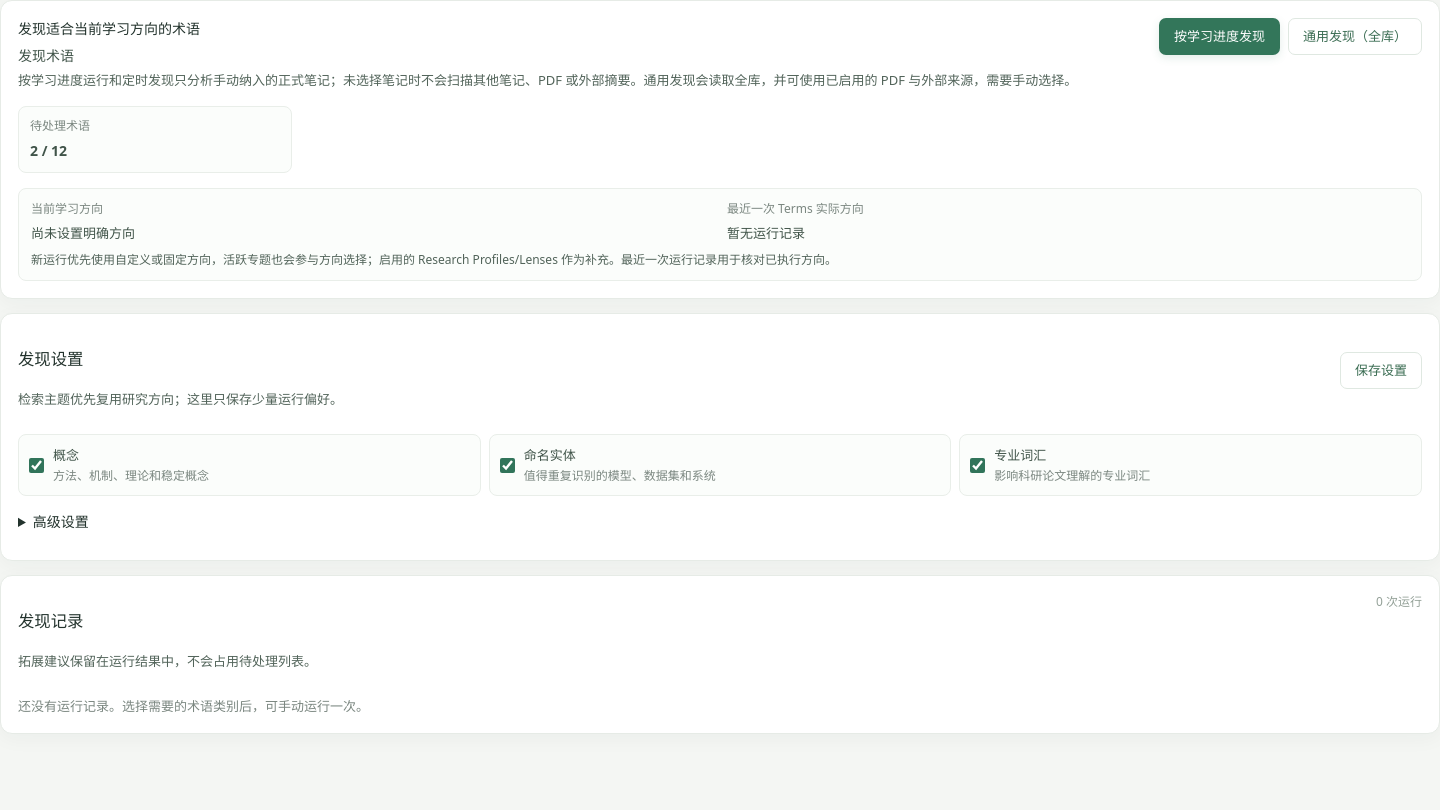
Scenario: 发现术语 panel › shows failed discovery clearly and keeps advanced configuration collapsed
expect the heading "发现术语" is shown: met, box [18,46,74,65]
Step 1. Click the button "按学习进度发现" → (1220, 36), box [1159,18,1280,55]
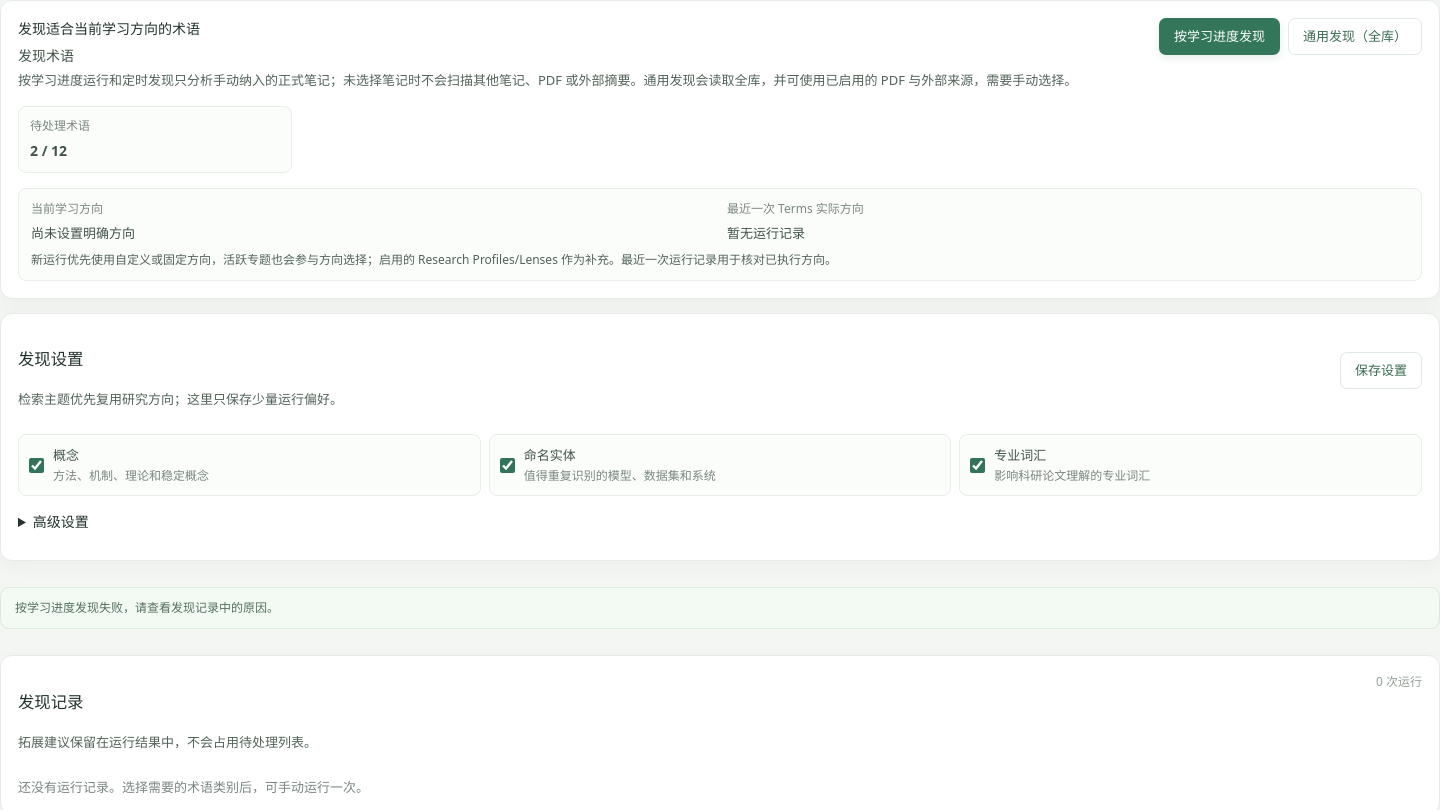
expect the message shows "发现失败": met, box [15,599,279,616]
